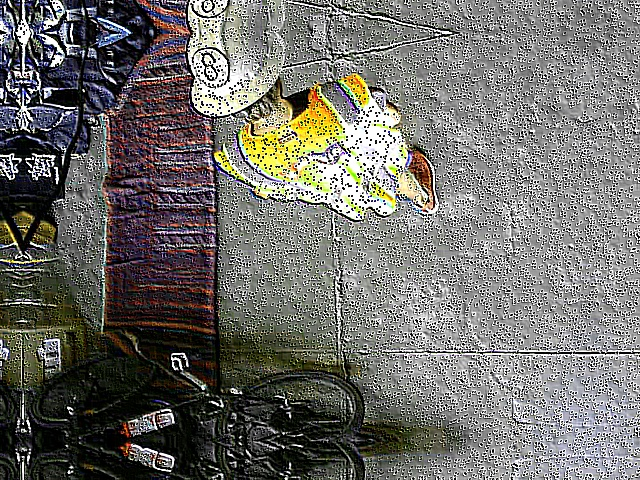eight: (188, 46, 228, 90)
